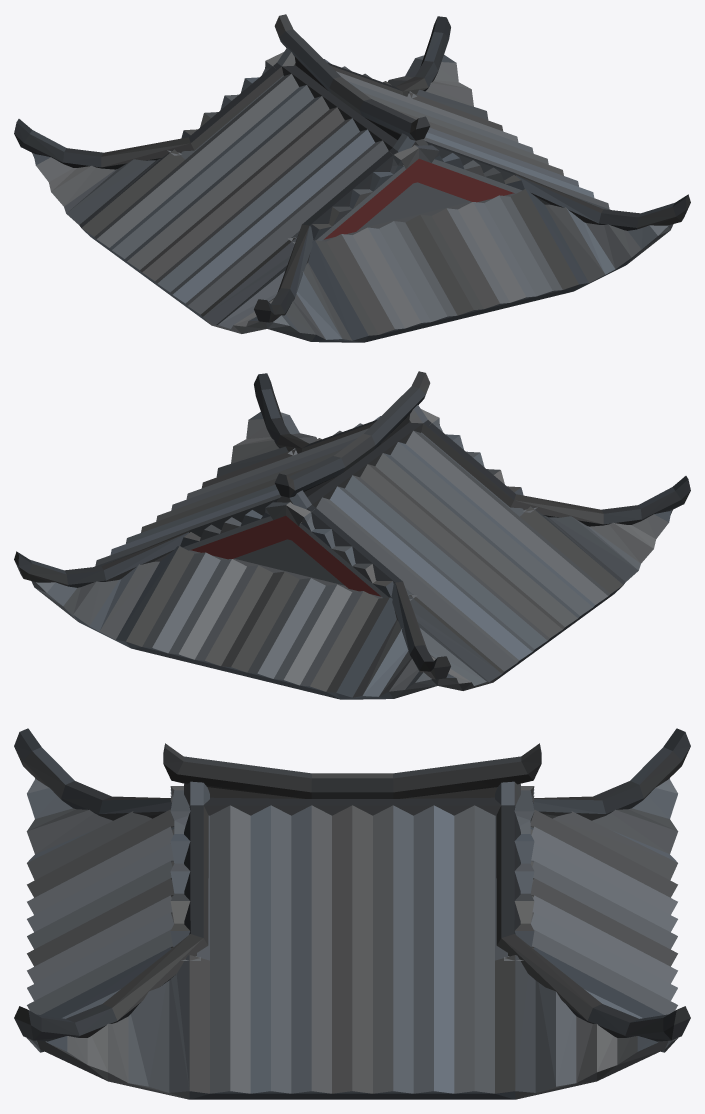
File: StackA-RoofLOD1.fbx
3 views of the same model, one above another, from view 1: azimuth 30°, elevation 25°; view 2: azimuth 150°, elevation 25°; view 3: azimuth 270°, elevation 25° (orthographic). The views are drawn at different scales.
Parts seen in each view (by area): view 1: StackA-RoofLOD1; view 2: StackA-RoofLOD1; view 3: StackA-RoofLOD1.
Boxes of the visible parts, x1,y1,x2,y2 form: StackA-RoofLOD1: (14, 14, 690, 342); StackA-RoofLOD1: (14, 371, 690, 699); StackA-RoofLOD1: (14, 728, 690, 1099).
Size of the model in its own units: 1039 by 376 by 1039.
